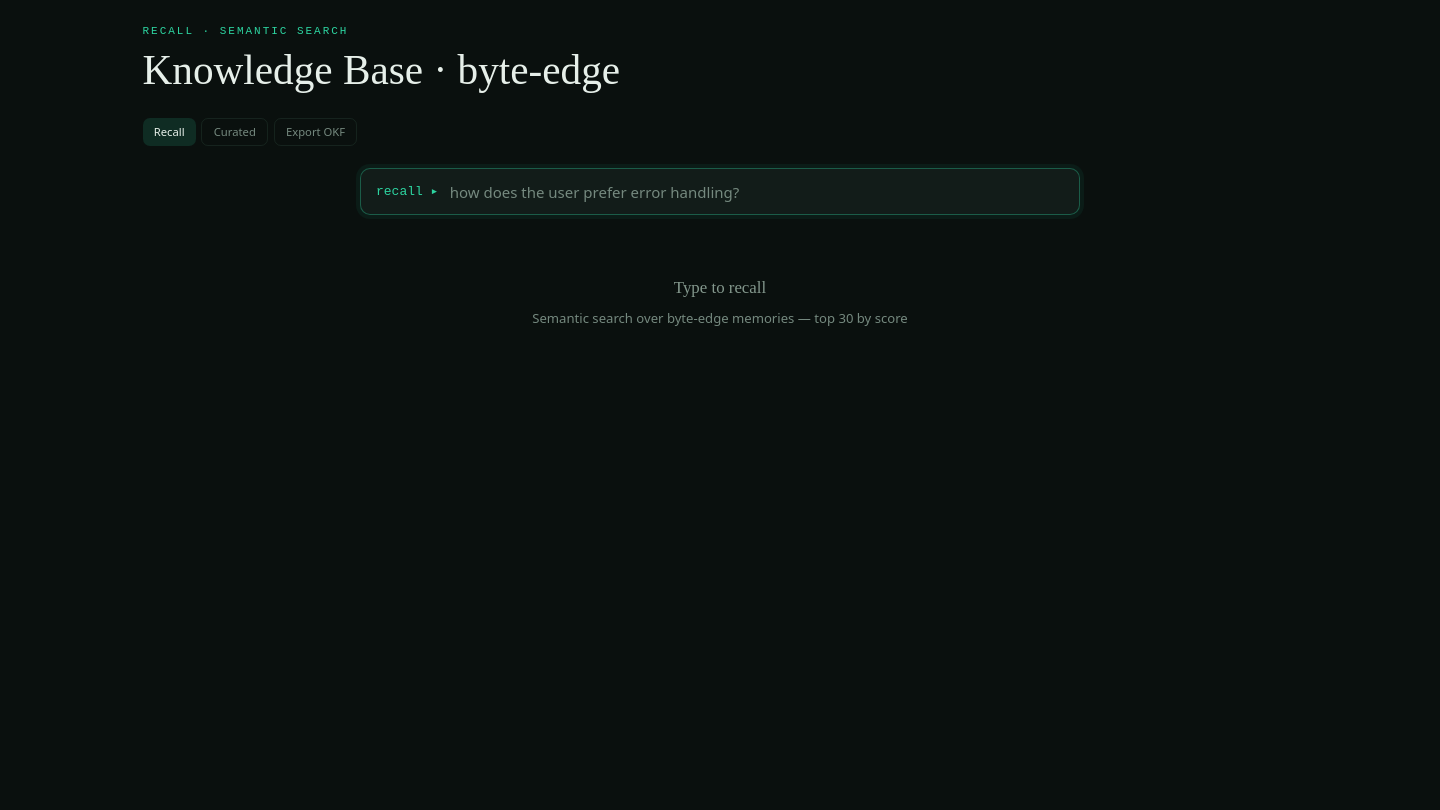
KB recall workbench › type facets show per-type counts; clicking toggles the filter and ALL resets
This screenshot has width=1440, height=810.
Type "error handling" into the field named "recall query" at {"x": 757, "y": 192}, box x1=450 y1=181 x2=1064 y2=203
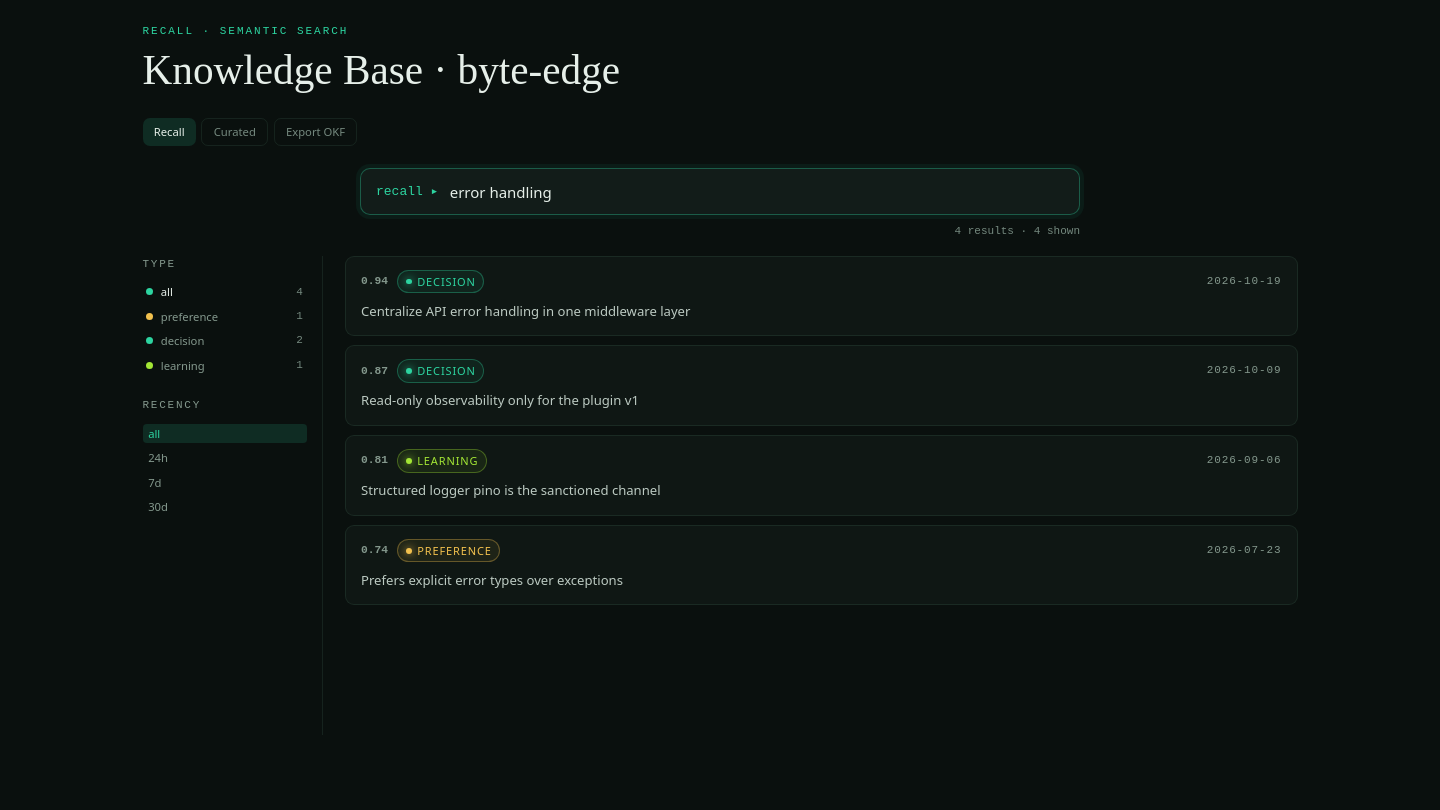
Now the text "Centralize API error handling in one middleware layer" is shown, box x1=361 y1=302 x2=690 y2=320
Now the button "decision 2" is shown
Now the button "learning 1" is shown, box x1=142 y1=356 x2=306 y2=374
Click the button "decision 2" at {"x": 224, "y": 341}, box x1=142 y1=331 x2=306 y2=350
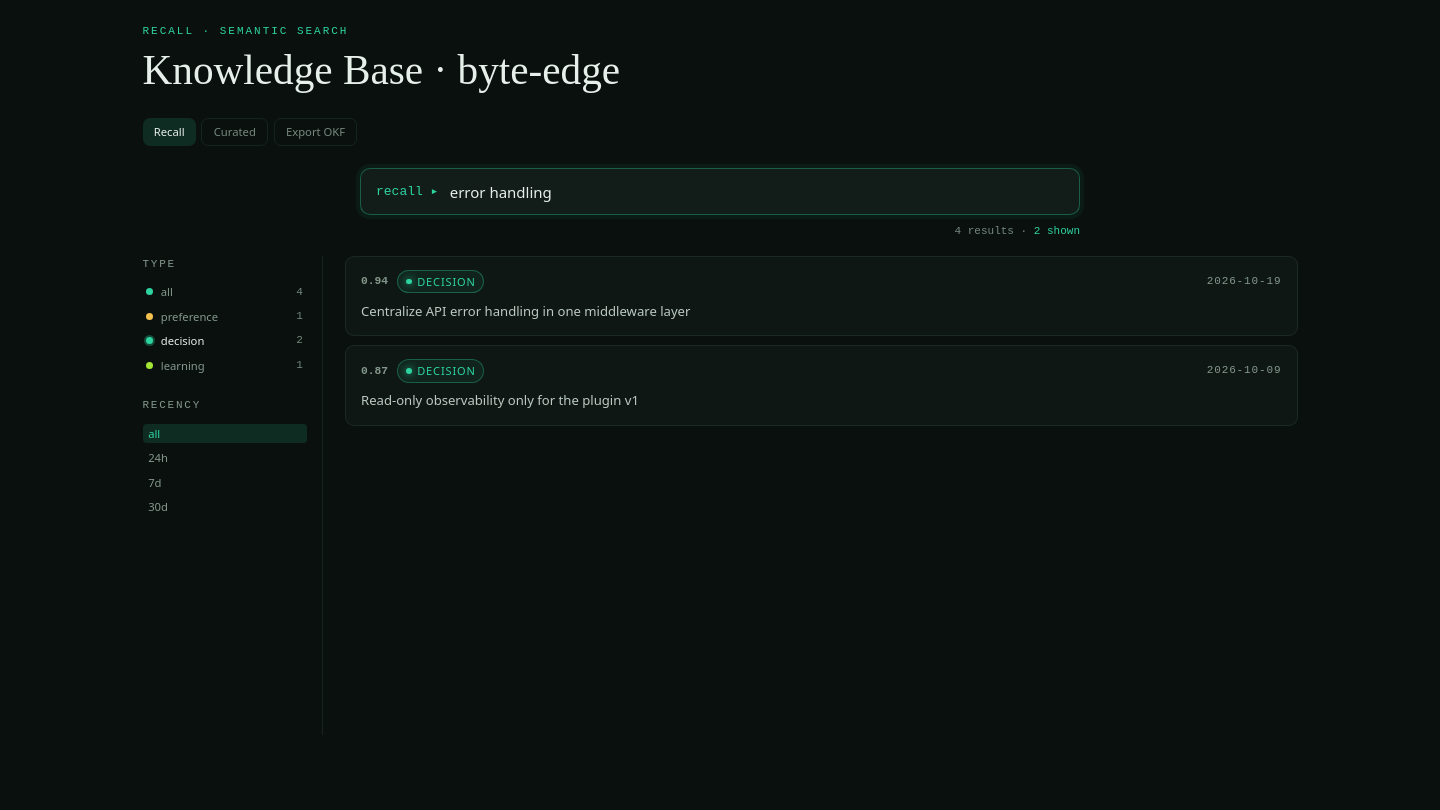
Now the text "Centralize API error handling in one middleware layer" is shown, box x1=361 y1=302 x2=690 y2=320
Now the button "pino is the sanctioned channel" is gone
Click the button "all 4" at {"x": 224, "y": 292}, box x1=142 y1=282 x2=306 y2=301
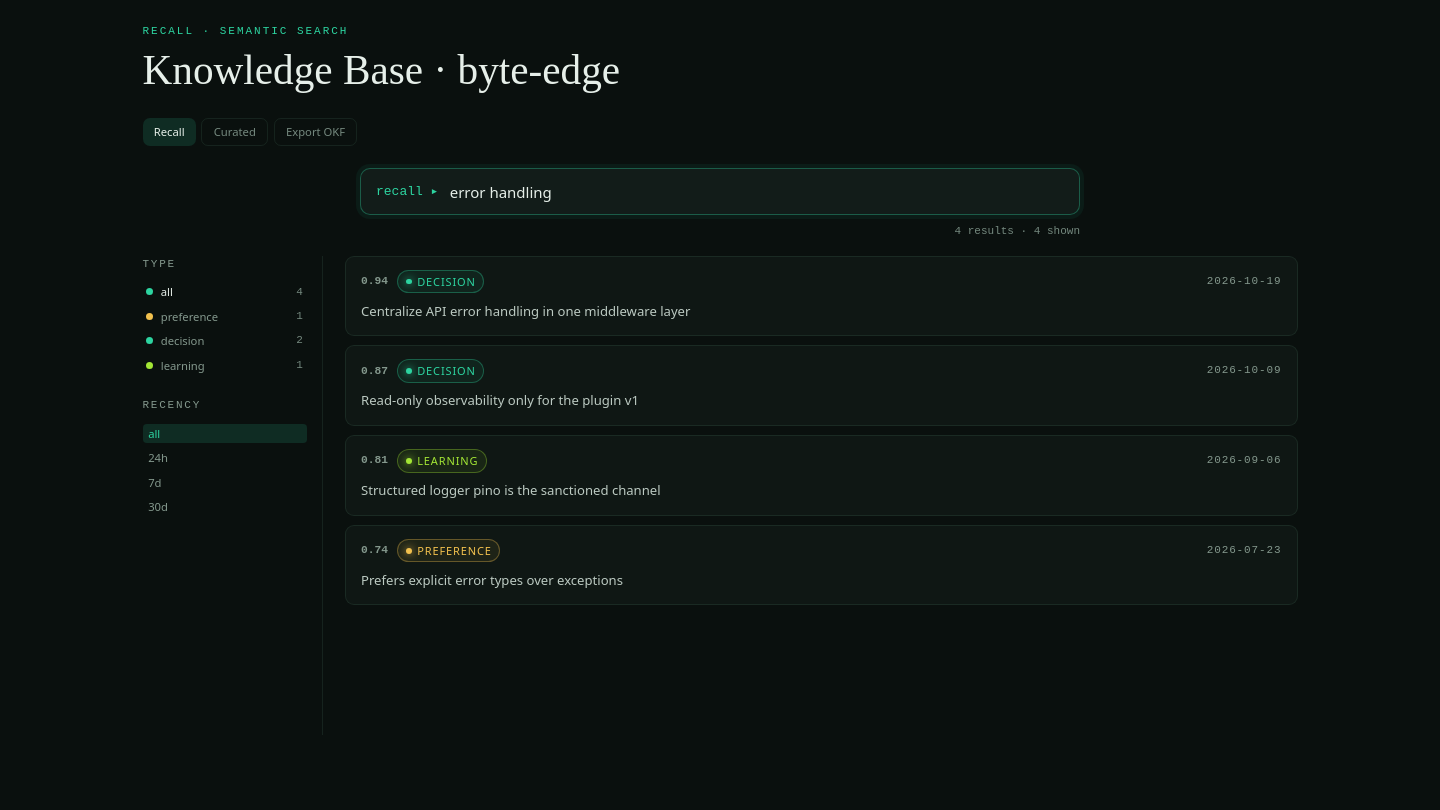
Now the text "Structured logger pino is the sanctioned channel" is shown, box x1=361 y1=481 x2=661 y2=499
